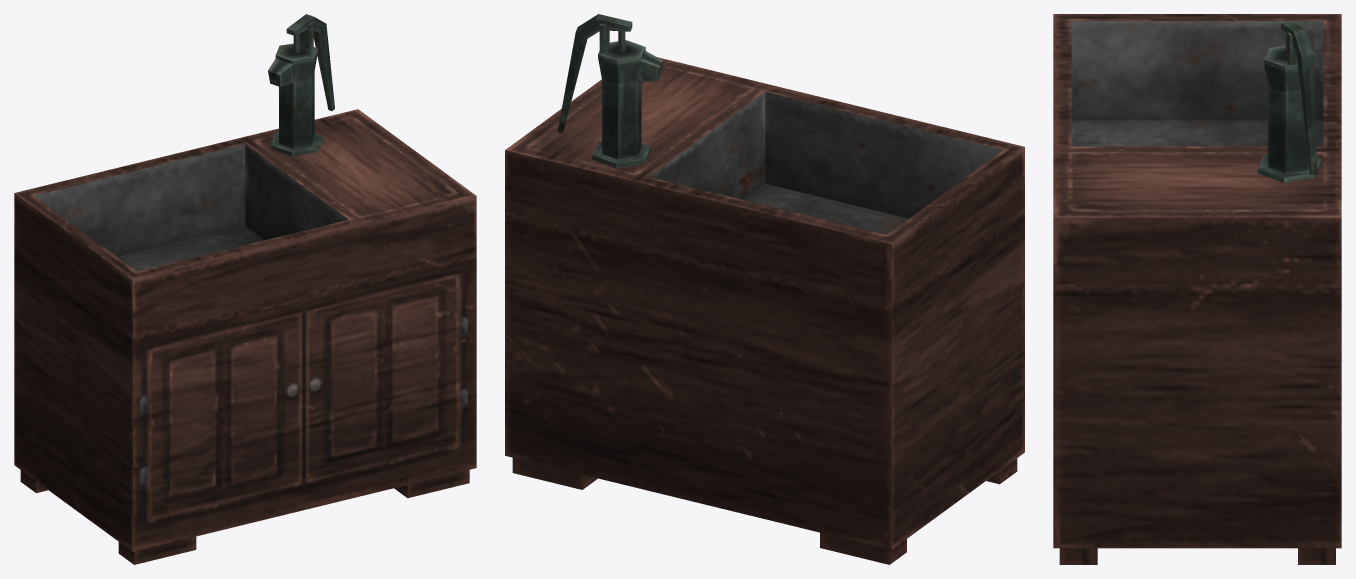
File: Sink.fbx
3 views of the same model, side by side, from view 1: azimuth 30°, elevation 25°; view 2: azimuth 150°, elevation 25°; view 3: azimuth 270°, elevation 25° (orthographic). The views are drawn at different scales.
Visible parts, largest first — view 1: Sink; view 2: Sink; view 3: Sink.
Part boxes in pixels (left/top/right/bottom): Sink: left=14, top=14, right=476, bottom=564; Sink: left=505, top=14, right=1024, bottom=564; Sink: left=1053, top=14, right=1341, bottom=564.
Size of the model in its own units: 116 by 132 by 69.01.
